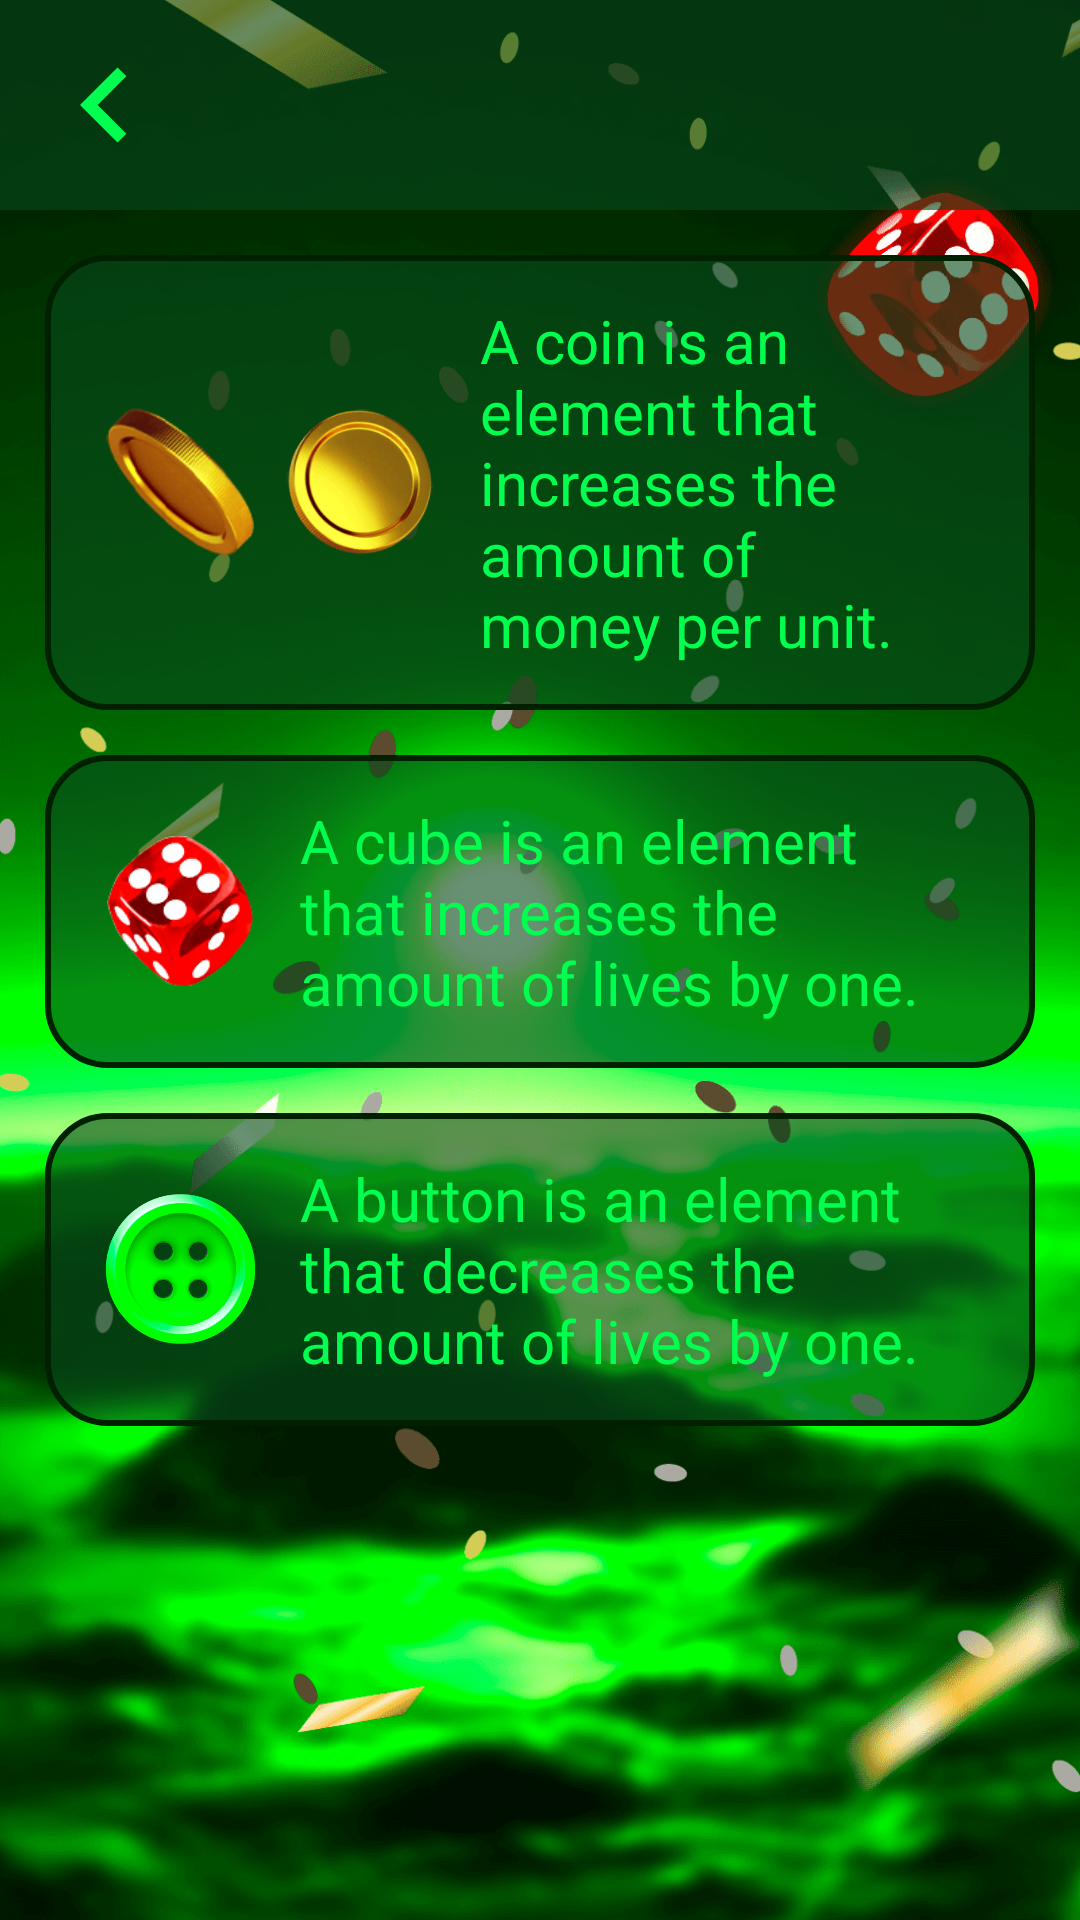

Icons on this 1080px×1920px Android screen, each with the point to tap as [x,y]:
chevron left: [103,105]
cub: [180,911]
